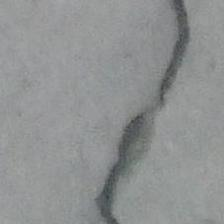Crack: (104, 0, 214, 224)
